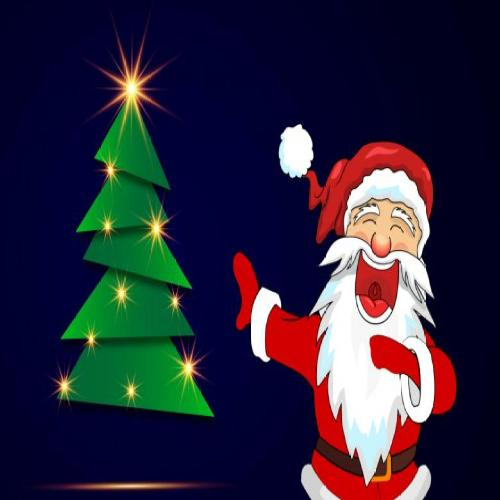Santa: (229, 128, 458, 498), (304, 138, 434, 251)
